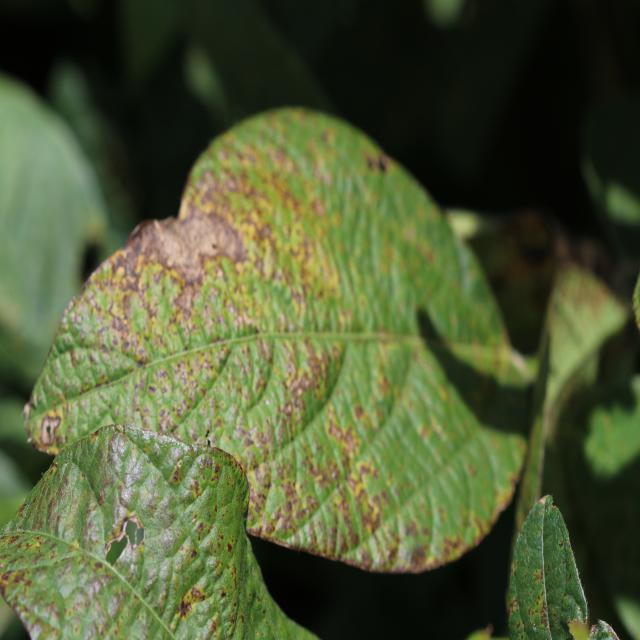Bacterial_Blight: (185, 162, 285, 258), (411, 306, 457, 375), (244, 493, 291, 543), (93, 293, 139, 337), (0, 554, 49, 594), (105, 515, 145, 563), (168, 276, 207, 322), (551, 297, 584, 340), (353, 489, 382, 537), (487, 475, 517, 518), (80, 241, 103, 286), (363, 150, 392, 182), (349, 392, 377, 425), (126, 218, 156, 246), (39, 413, 61, 447), (252, 460, 274, 493), (21, 395, 37, 432), (157, 408, 176, 433), (408, 543, 426, 567), (240, 322, 262, 341), (3, 532, 23, 547), (178, 598, 192, 618), (170, 462, 183, 483), (242, 482, 251, 511), (190, 478, 202, 498), (190, 586, 203, 600), (533, 569, 544, 584), (589, 623, 600, 638), (196, 521, 205, 539), (17, 504, 27, 520), (509, 598, 518, 614), (135, 355, 146, 368), (90, 429, 99, 441), (115, 424, 125, 433), (213, 462, 220, 474), (230, 457, 237, 468), (227, 541, 233, 553), (72, 539, 80, 548), (190, 549, 197, 559), (576, 604, 582, 615), (220, 590, 227, 599), (49, 466, 55, 476), (567, 572, 573, 581), (265, 397, 271, 406), (240, 613, 245, 623), (211, 243, 218, 250), (558, 539, 564, 547), (523, 548, 529, 556), (206, 438, 211, 447), (546, 563, 550, 572), (214, 504, 218, 513), (551, 504, 557, 510), (516, 621, 521, 628), (532, 623, 537, 630), (523, 572, 527, 579), (521, 633, 525, 640), (327, 288, 332, 293), (562, 560, 566, 566)
Soybean: (24, 109, 532, 573)
